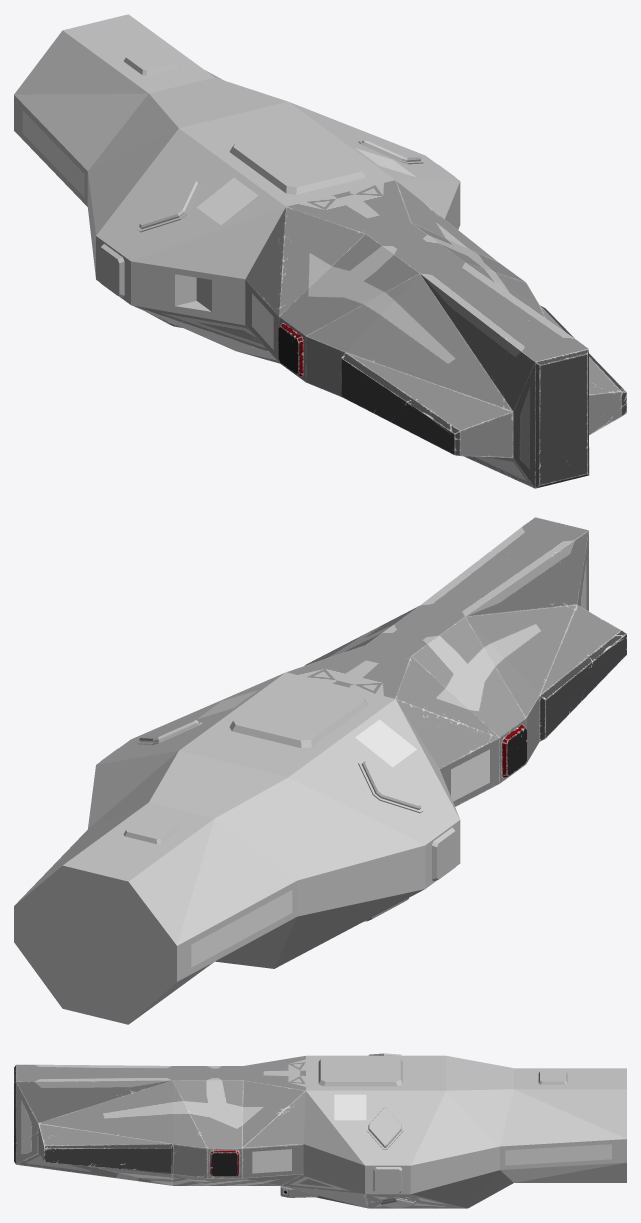
Rendered from Kaliare CL Collider.fbx.
3 renders of one model, top to bottom at view 1: azimuth 30°, elevation 25°; view 2: azimuth 150°, elevation 25°; view 3: azimuth 270°, elevation 25°, orthographic. The views are drawn at different scales.
Parts seen in each view (by area): view 1: Kaliare Stern.008, Kaliare Bow.003, Kaliare Bow.006, Kaliare Bow.008, Kaliare Bow.004, Kaliare Bow.005, Kaliare Stern.003, Kaliare Stern.004, Kaliare Stern.005, Kaliare Stern.016, Kaliare Stern.007, Kaliare Stern.011 (+7 smaller); view 2: Kaliare Stern.003, Kaliare Stern.008, Kaliare Stern.007, Kaliare Stern.004, Kaliare Bow.008, Kaliare Bow.006, Kaliare Bow.003, Kaliare Stern.005, Kaliare Bow.004, Kaliare Stern.016, Kaliare Bow.005, Kaliare Stern.006 (+4 smaller); view 3: Kaliare Stern.008, Kaliare Bow.003, Kaliare Bow.008, Kaliare Bow.006, Kaliare Stern.004, Kaliare Stern.007, Kaliare Stern.003, Kaliare Bow.005, Kaliare Bow.004, Kaliare Stern.005, Kaliare Stern.016, Kaliare Stern.009 (+9 smaller).
Part boxes in pixels (left/top/right/bottom): Kaliare Stern.008: left=96, top=101, right=459, bottom=304; Kaliare Bow.003: left=420, top=262, right=589, bottom=488; Kaliare Bow.006: left=279, top=223, right=538, bottom=396; Kaliare Bow.008: left=245, top=180, right=498, bottom=362; Kaliare Bow.004: left=341, top=305, right=626, bottom=457; Kaliare Bow.005: left=345, top=263, right=544, bottom=411; Kaliare Stern.003: left=14, top=14, right=214, bottom=94; Kaliare Stern.004: left=14, top=70, right=223, bottom=206; Kaliare Stern.005: left=88, top=77, right=287, bottom=170; Kaliare Stern.016: left=229, top=126, right=368, bottom=194; Kaliare Stern.007: left=87, top=128, right=178, bottom=277; Kaliare Stern.011: left=131, top=261, right=196, bottom=305; Kaliare Stern.003: left=14, top=802, right=214, bottom=1024; Kaliare Stern.008: left=96, top=672, right=460, bottom=888; Kaliare Stern.007: left=88, top=751, right=425, bottom=968; Kaliare Stern.004: left=15, top=803, right=297, bottom=981; Kaliare Bow.008: left=286, top=645, right=499, bottom=806; Kaliare Bow.006: left=304, top=605, right=539, bottom=783; Kaliare Bow.003: left=420, top=517, right=588, bottom=616; Kaliare Stern.005: left=89, top=751, right=297, bottom=880; Kaliare Bow.004: left=539, top=605, right=626, bottom=741; Kaliare Stern.016: left=229, top=680, right=368, bottom=748; Kaliare Bow.005: left=465, top=604, right=576, bottom=695; Kaliare Stern.006: left=215, top=917, right=296, bottom=968; Kaliare Stern.008: left=303, top=1055, right=446, bottom=1194; Kaliare Bow.003: left=14, top=1064, right=172, bottom=1185; Kaliare Bow.008: left=242, top=1055, right=305, bottom=1185; Kaliare Bow.006: left=173, top=1066, right=243, bottom=1185; Kaliare Stern.004: left=500, top=1089, right=626, bottom=1182; Kaliare Stern.007: left=410, top=1091, right=499, bottom=1208; Kaliare Stern.003: left=514, top=1068, right=626, bottom=1182; Kaliare Bow.005: left=39, top=1080, right=205, bottom=1185; Kaliare Bow.004: left=38, top=1123, right=172, bottom=1174; Kaliare Stern.005: left=446, top=1056, right=513, bottom=1145; Kaliare Stern.016: left=318, top=1057, right=402, bottom=1086; Kaliare Stern.009: left=303, top=1144, right=364, bottom=1193.
Bounding box in the file's own units: 588 × 1412 × 316.
